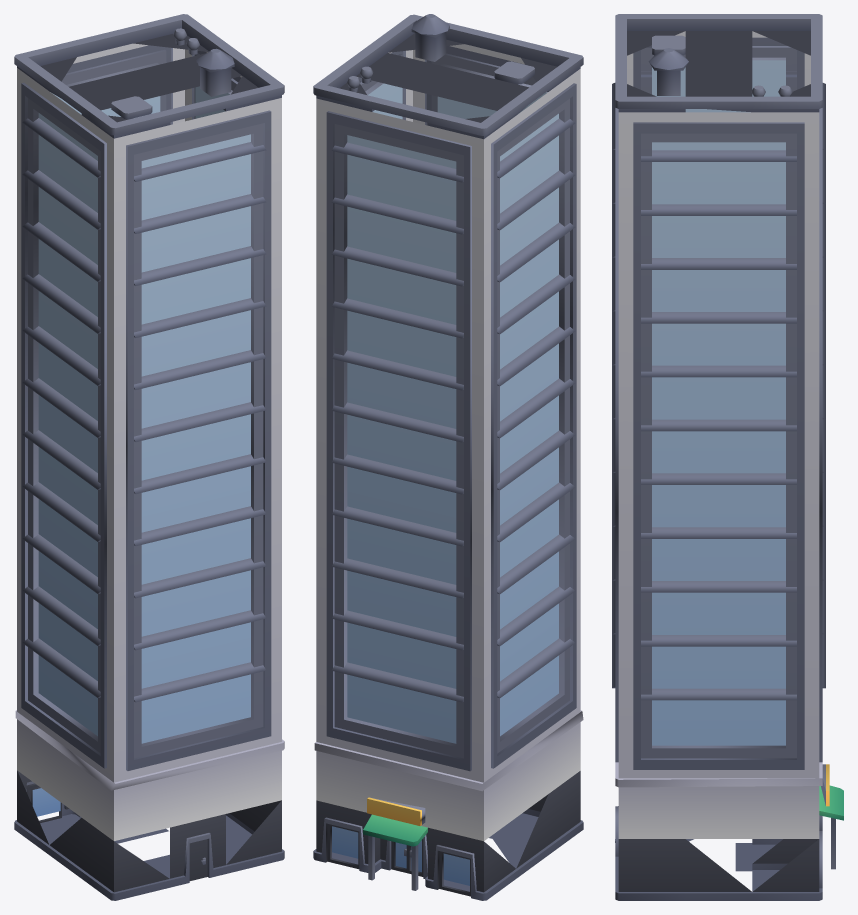
The model's file is tower-d.glb.
3 renders of one model, left to right at view 1: azimuth 30°, elevation 25°; view 2: azimuth 150°, elevation 25°; view 3: azimuth 270°, elevation 25°, orthographic. The views are drawn at different scales.
Parts seen in each view (by area): view 1: building-skyscraper-d; view 2: building-skyscraper-d; view 3: building-skyscraper-d.
Boxes of the visible parts, x1,y1,x2,y2 form: building-skyscraper-d: (14,14,284,900); building-skyscraper-d: (313,14,583,900); building-skyscraper-d: (612,14,843,900).
Size of the model in its own units: 1.28 by 5.47 by 1.39.
1 material, 1 textured.
